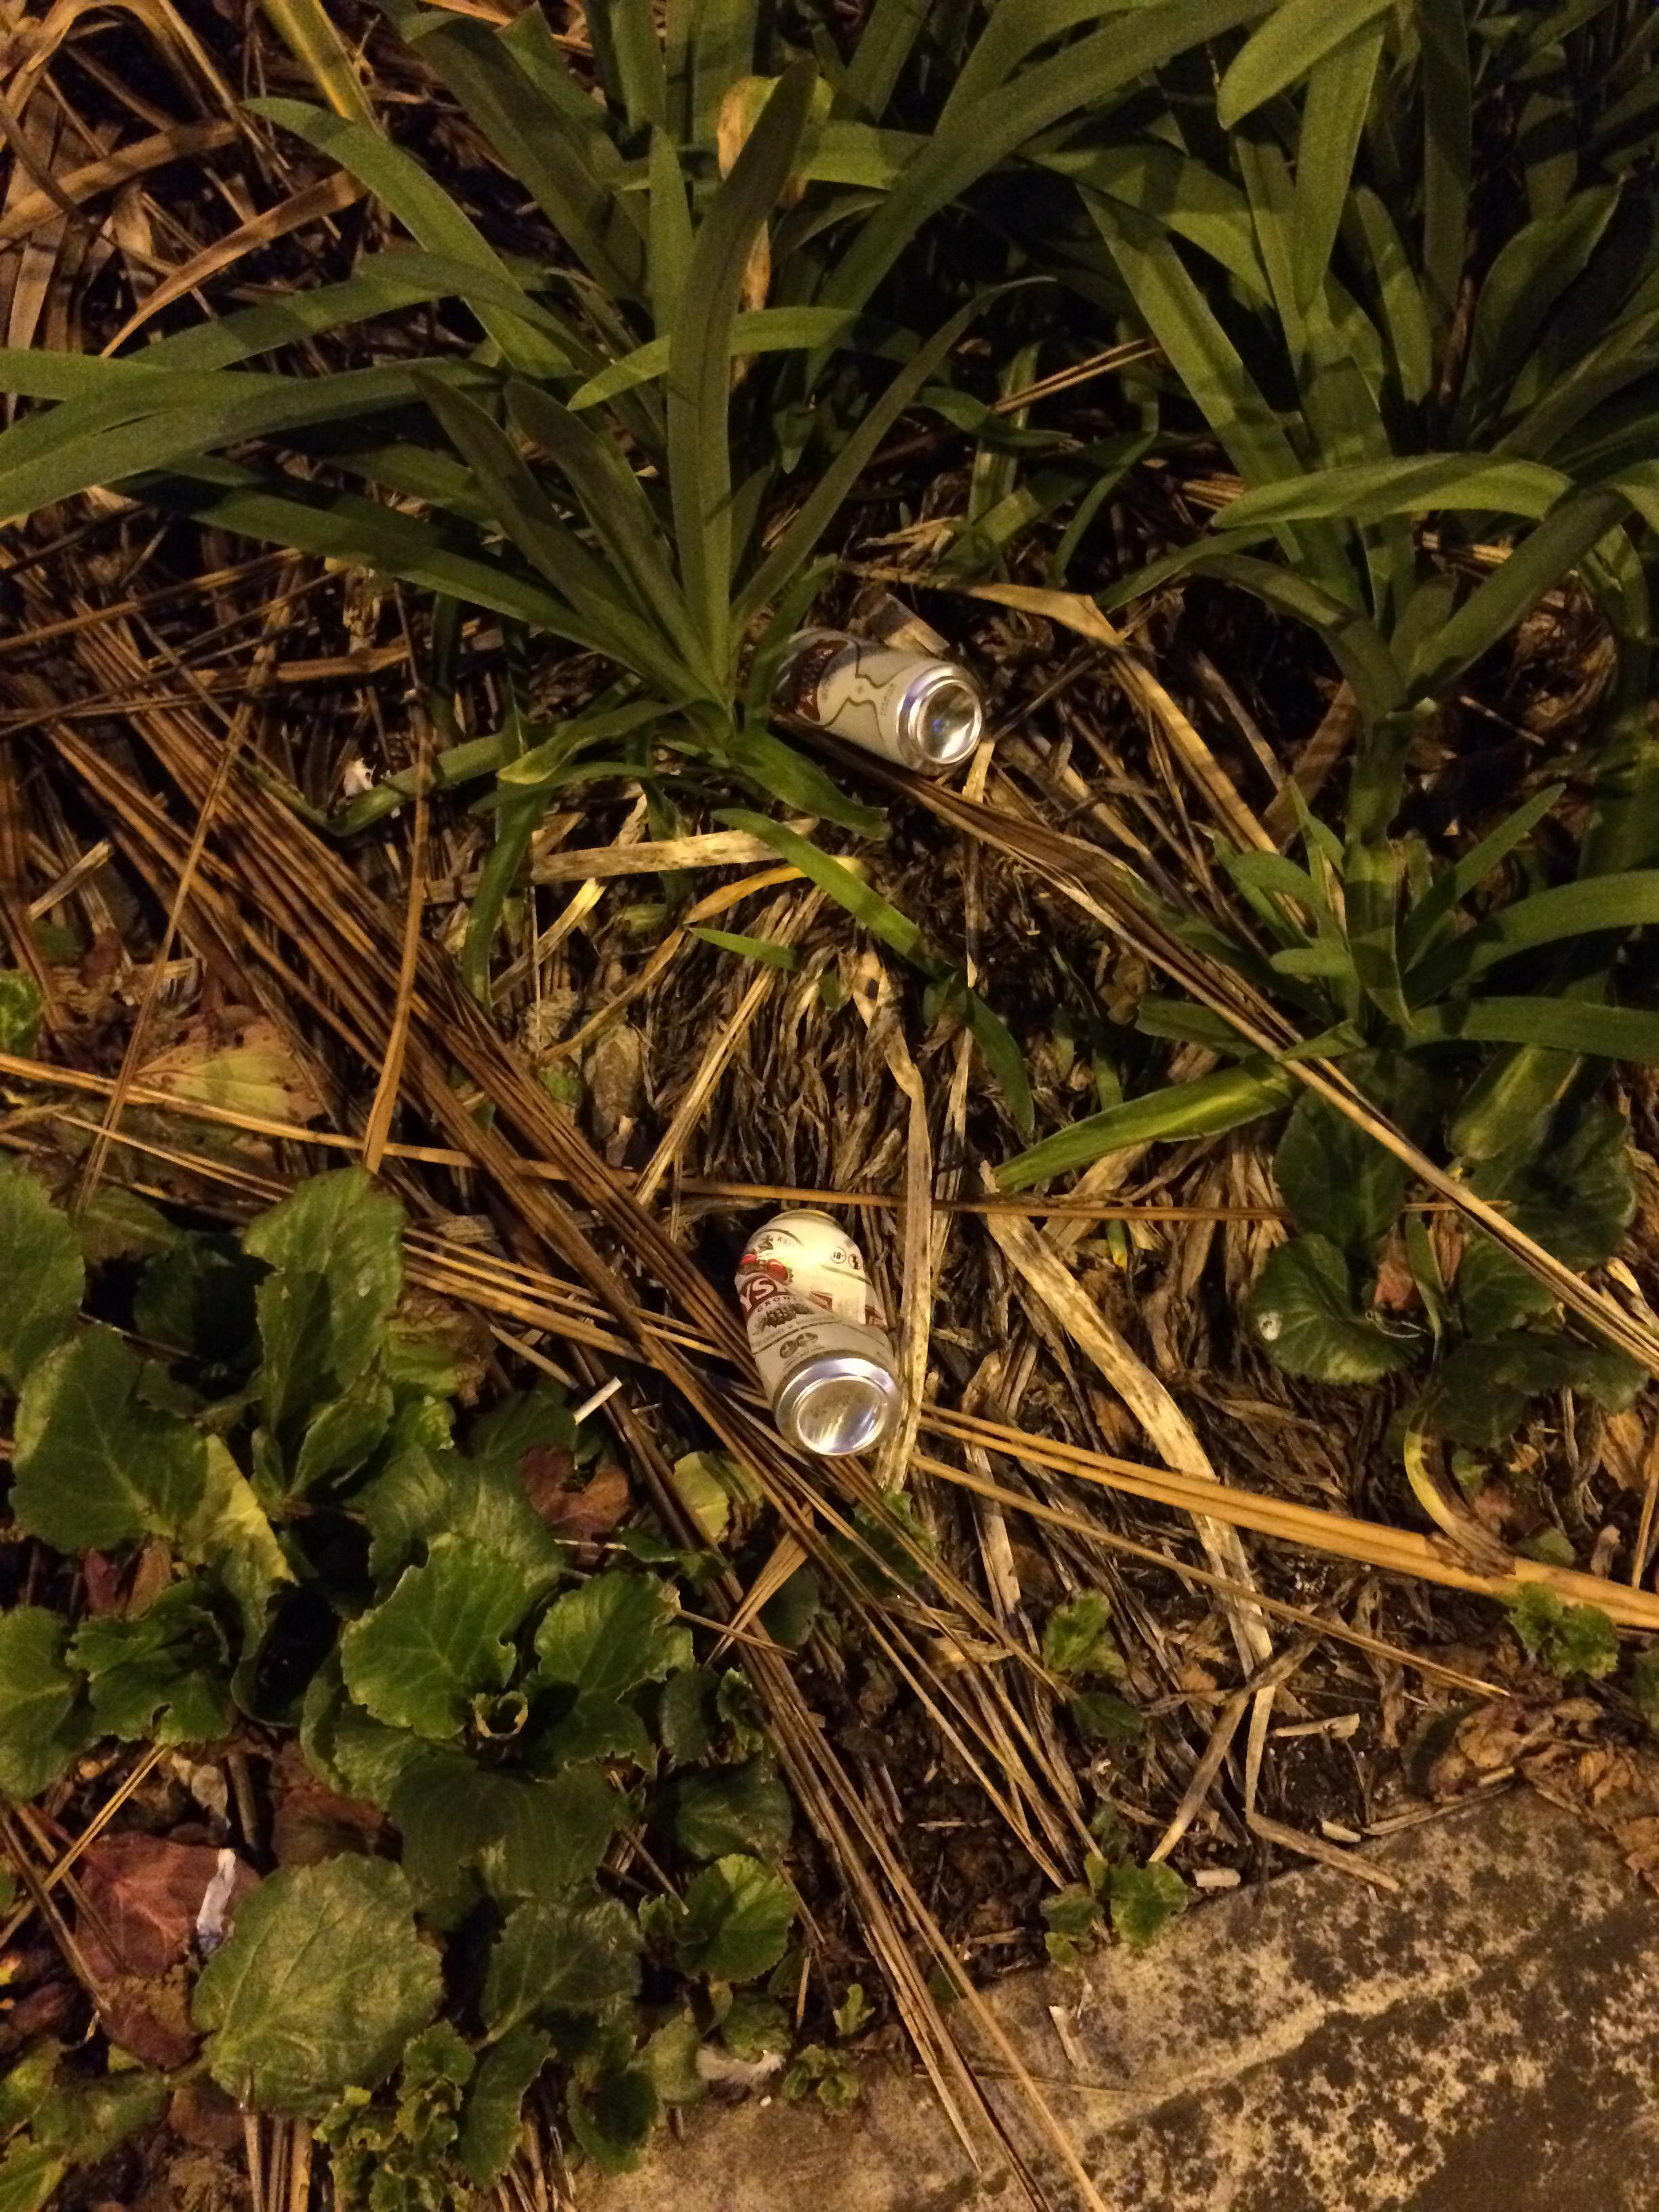Trash: (716, 1190, 904, 1454), (741, 617, 976, 768)
